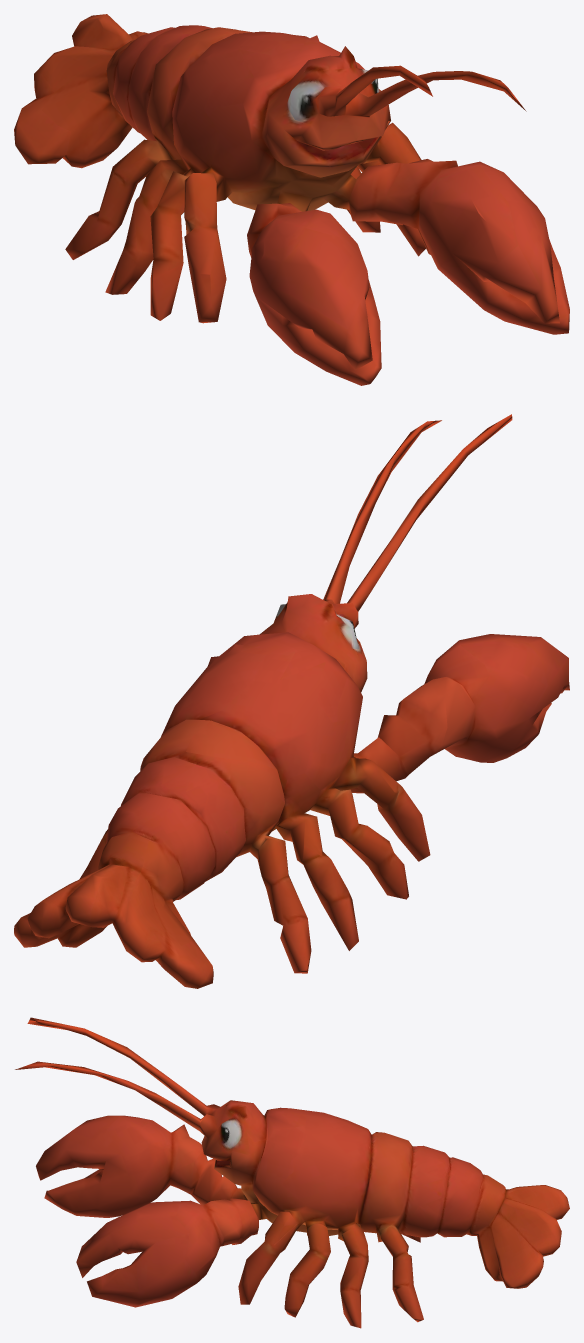
File: fish-lobster.glb
3 renders of one model, top to bottom at view 1: azimuth 30°, elevation 25°; view 2: azimuth 150°, elevation 25°; view 3: azimuth 270°, elevation 25°, orthographic. The views are drawn at different scales.
Parts seen in each view (by area): view 1: tripo_node_5dd71d23-ac47-4c53-b23a-c64ca9e4cb72; view 2: tripo_node_5dd71d23-ac47-4c53-b23a-c64ca9e4cb72; view 3: tripo_node_5dd71d23-ac47-4c53-b23a-c64ca9e4cb72.
Boxes of the visible parts, x1,y1,x2,y2 form: tripo_node_5dd71d23-ac47-4c53-b23a-c64ca9e4cb72: (14, 14, 569, 385); tripo_node_5dd71d23-ac47-4c53-b23a-c64ca9e4cb72: (14, 414, 569, 988); tripo_node_5dd71d23-ac47-4c53-b23a-c64ca9e4cb72: (15, 1017, 569, 1328).
Bounding box in the file's own units: 0.4394 × 0.491 × 1.
Materials: 1 (1 with a texture image).
